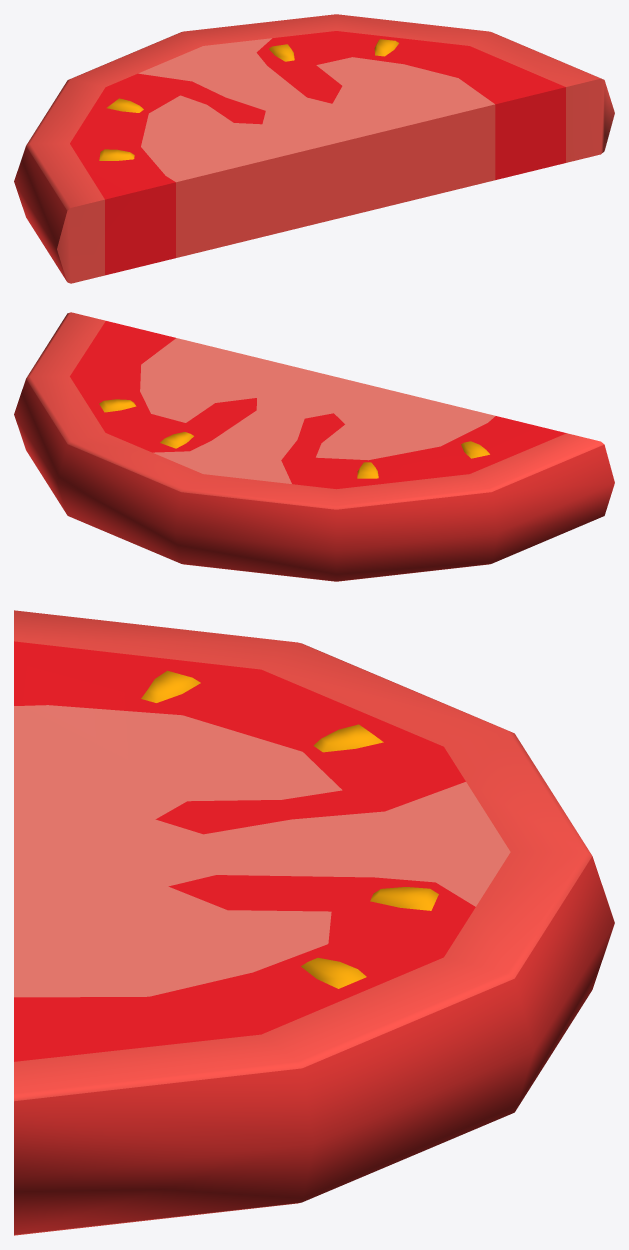
File: Tomato_half_red_Hotdog.fbx
3 renders of one model, top to bottom at view 1: azimuth 30°, elevation 25°; view 2: azimuth 150°, elevation 25°; view 3: azimuth 270°, elevation 25°, orthographic. The views are drawn at different scales.
Parts seen in each view (by area): view 1: Tomato_half_red_Hotdog; view 2: Tomato_half_red_Hotdog; view 3: Tomato_half_red_Hotdog.
Part boxes in pixels (x1,y1,x2,y2): Tomato_half_red_Hotdog: (14, 14, 614, 283); Tomato_half_red_Hotdog: (14, 312, 614, 581); Tomato_half_red_Hotdog: (14, 610, 614, 1235).
Bounding box in the file's own units: 57.33 × 28.6 × 8.21.
